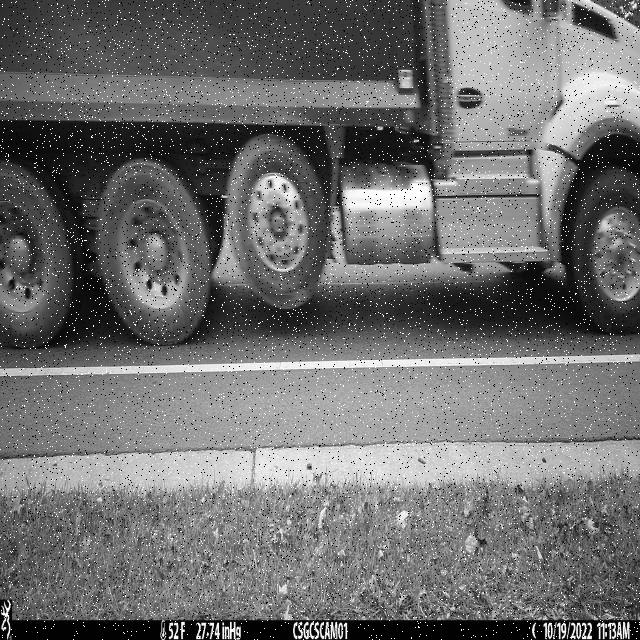Box Truck: (0, 0, 640, 351)
